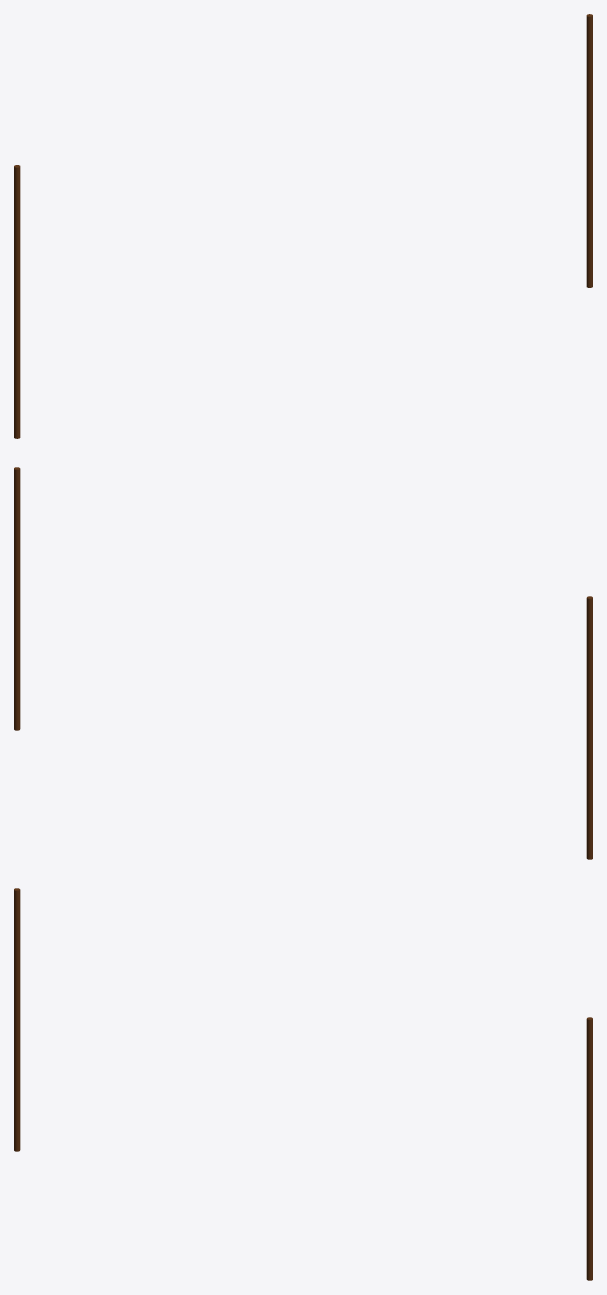
Rendered from FairyTale223.gltf.
The picture shows the model from 3 angles, top to bottom: view 1: azimuth 30°, elevation 25°; view 2: azimuth 150°, elevation 25°; view 3: azimuth 330°, elevation 25°; orthographic projection. The views are drawn at different scales.
Parts seen in each view (by area): view 1: 网格250; view 2: 网格250; view 3: 网格250.
Part boxes in pixels (<box>): 网格250: <box>14,14,592,438</box>; 网格250: <box>14,467,592,859</box>; 网格250: <box>14,888,592,1280</box>.
Size of the model in its own units: 5.27 by 2.32 by 0.2261.
